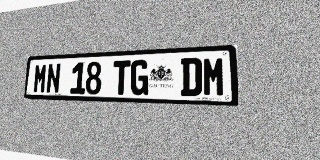1: (70, 62, 87, 94)
8: (85, 61, 102, 94)
D: (180, 57, 202, 96)
G: (130, 59, 149, 95)
M: (203, 56, 226, 97), (33, 64, 48, 93)
N: (46, 63, 61, 94)
T: (112, 60, 131, 95)
